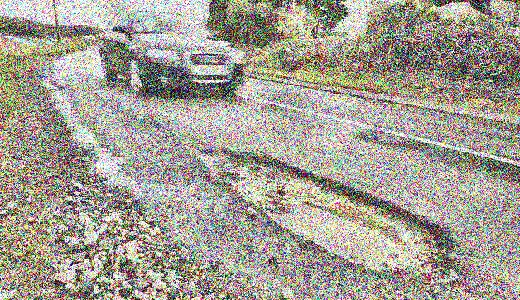pothole: (198, 149, 454, 271)
